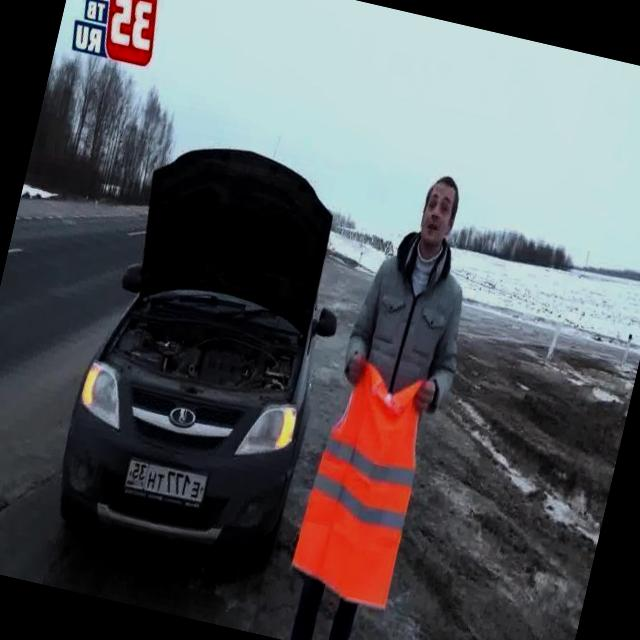vest: (283, 344, 442, 614)
